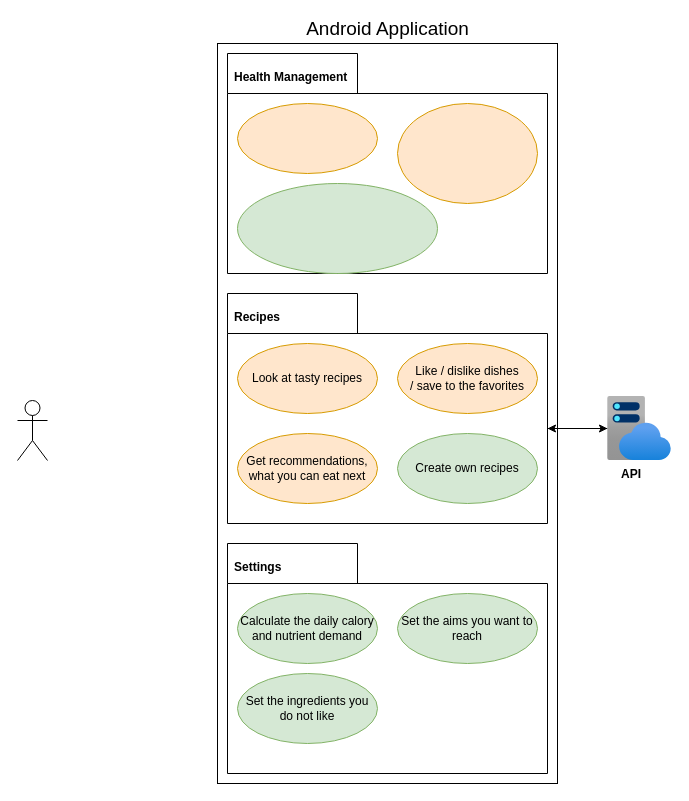
This 689x801 diagram has some shape labels left out. Each missing label, with the centre of its shape:
Actor: (x=32, y=430)
Keep track of, how much you have been drinking over the day: (x=337, y=228)
Look at statistics, how you improved your health: (x=467, y=153)
See, which nutrients are missing: (x=307, y=138)
